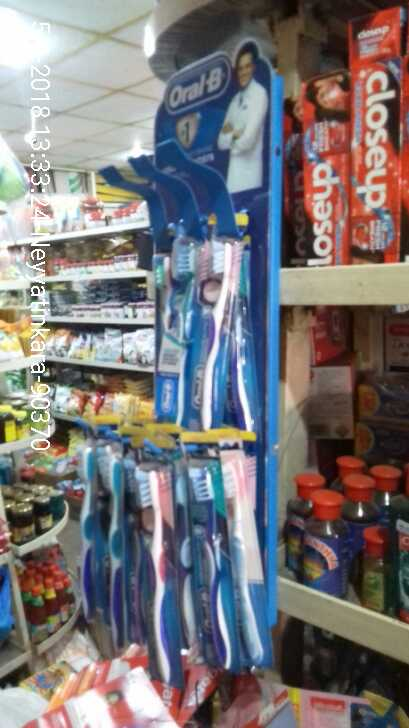oralb: (135, 460, 186, 686), (184, 467, 231, 673), (196, 234, 238, 432)
